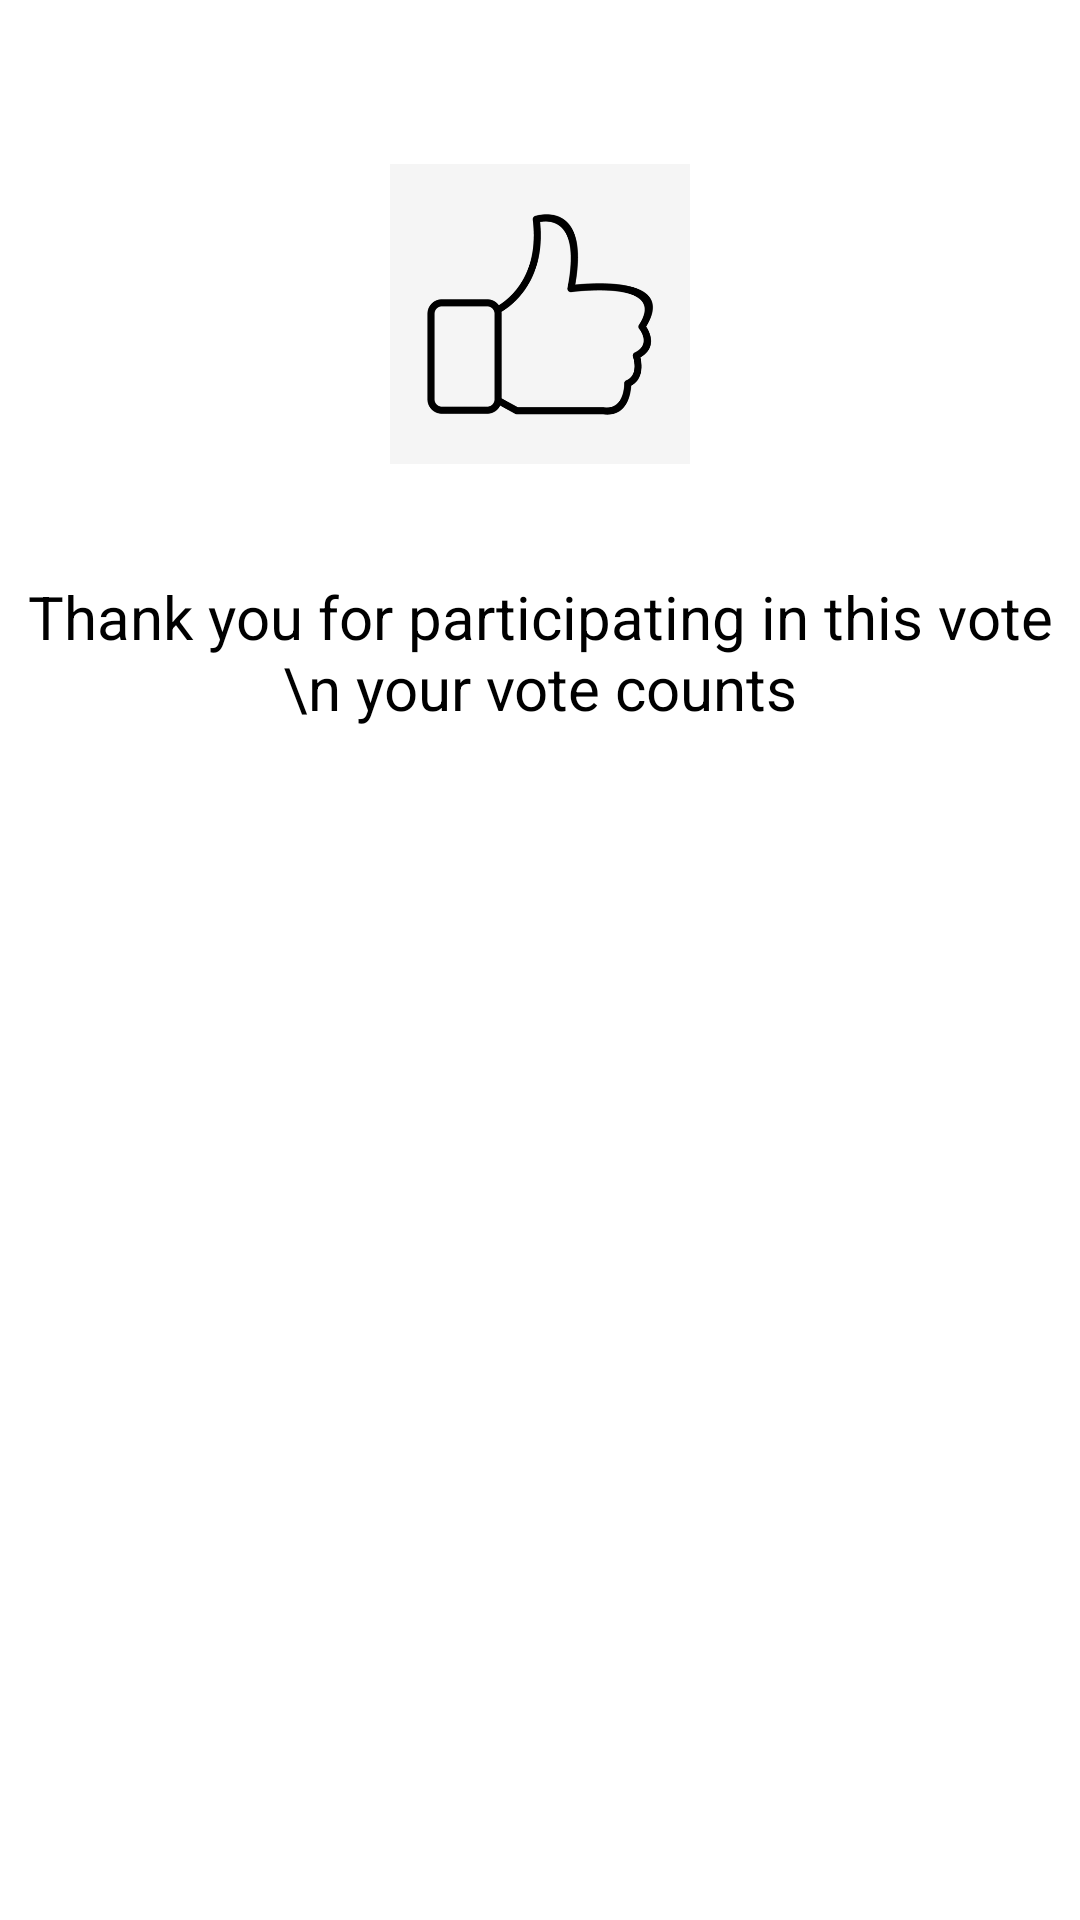

Named icons in this screenshot (1080 × 1920) and their bounding boxes, (x1, y1, x2, y2):
thumbsup: (390, 164, 690, 464)
